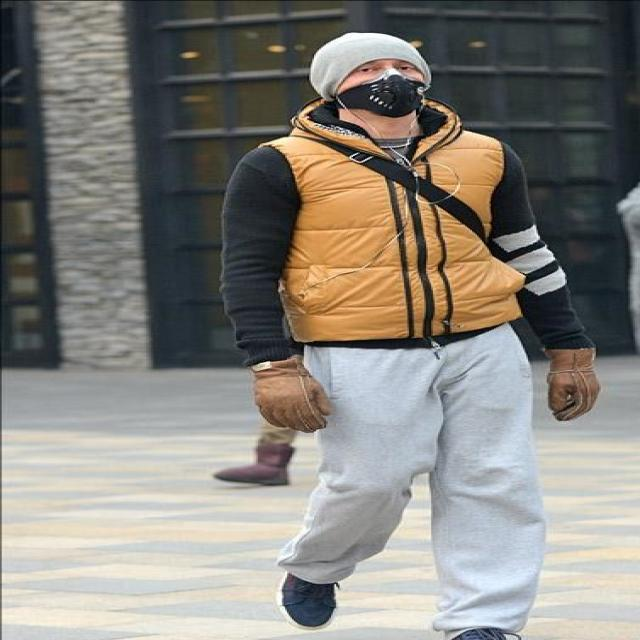mask: (333, 52, 424, 120)
